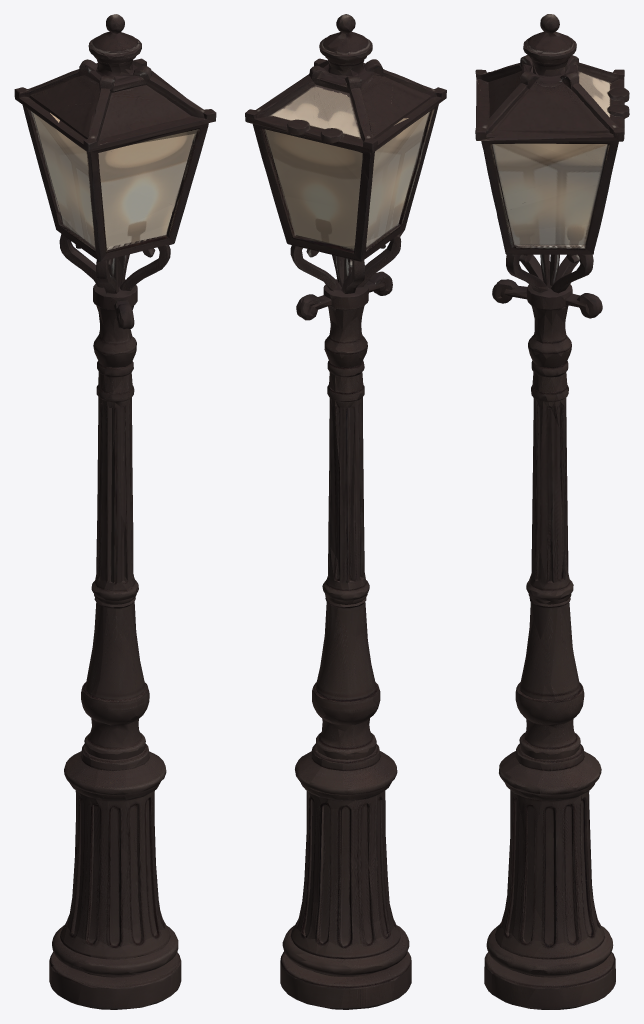
Rendered from streetlamp_0.glb.
The picture shows the model from 3 angles, left to right: view 1: azimuth 30°, elevation 25°; view 2: azimuth 150°, elevation 25°; view 3: azimuth 270°, elevation 25°; orthographic projection.
Bounding box in the file's own units: 0.2643 × 1.9 × 0.2744.
Materials: 1 (1 with a texture image).
